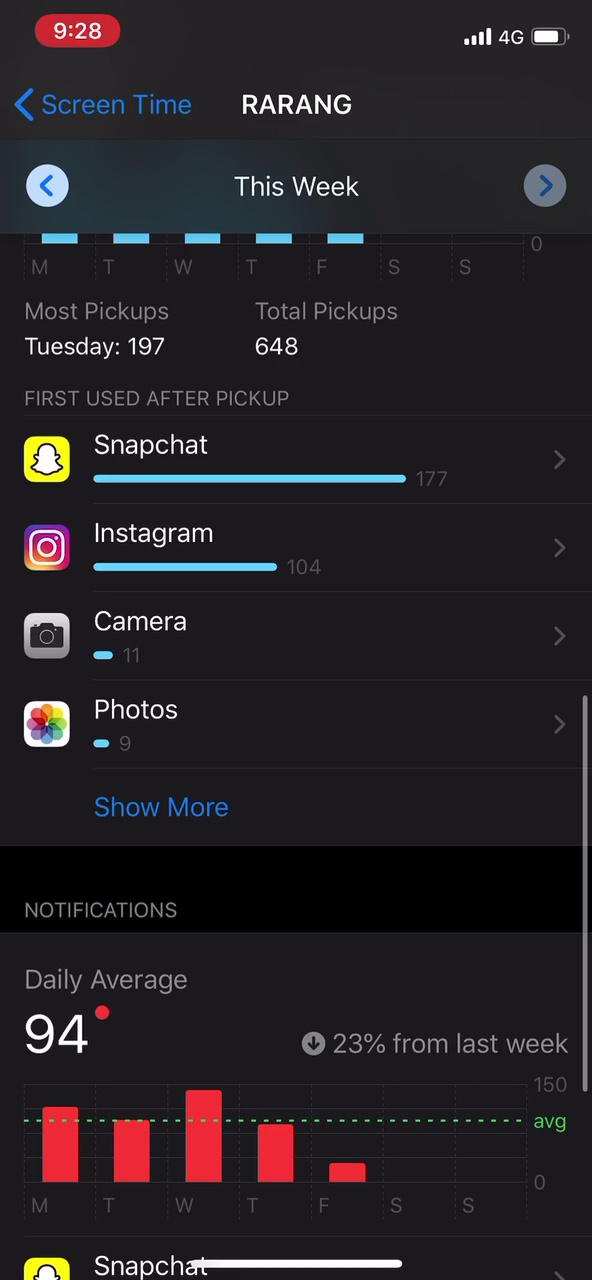not_over: (17, 875, 240, 1069)
pick_app: (12, 419, 486, 499), (12, 514, 353, 587), (12, 689, 225, 761), (14, 601, 211, 673)
pick_over: (7, 283, 461, 375)
week: (223, 163, 374, 207)
